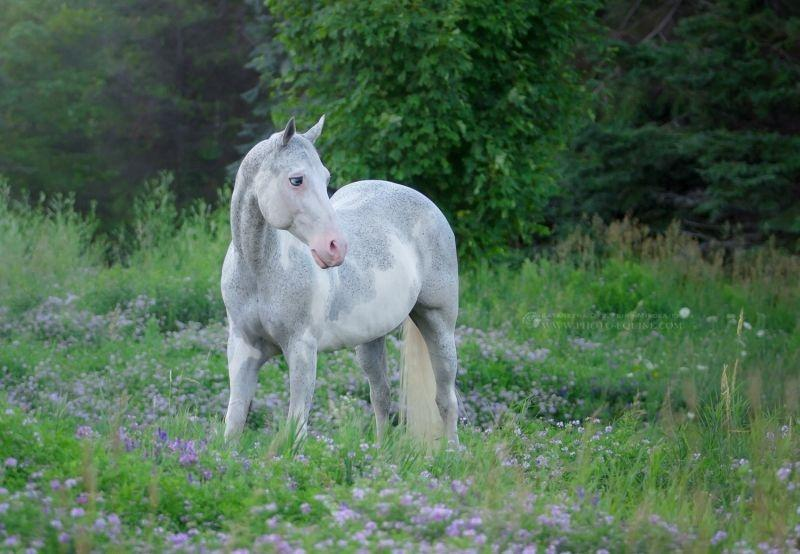horse: (219, 112, 462, 460)
